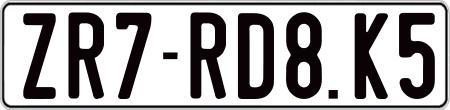5: (397, 12, 435, 103)
7: (116, 11, 153, 102)
8: (283, 12, 324, 99)
D: (236, 13, 275, 104)
K: (355, 10, 392, 99)
R: (67, 11, 109, 104), (189, 12, 225, 104)
Z: (22, 13, 57, 104)
